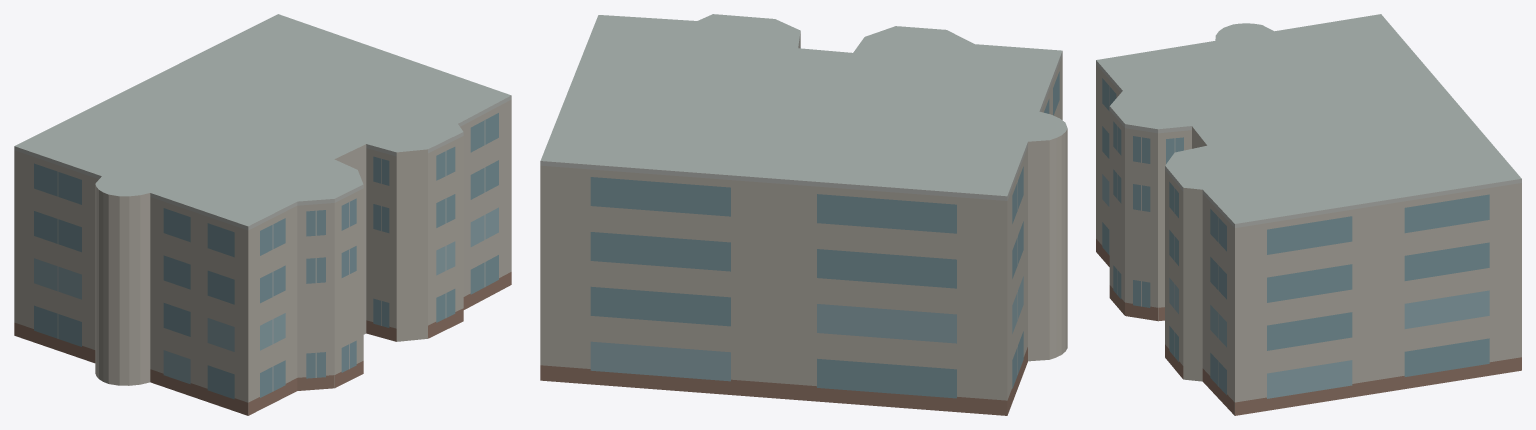
The model's file is survey-upis-32863959.glb.
3 views of the same model, side by side, from view 1: azimuth 30°, elevation 25°; view 2: azimuth 150°, elevation 25°; view 3: azimuth 270°, elevation 25° (orthographic). The views are drawn at different scales.
Visible parts, largest first — view 1: survey-upis-32863959.tmp; view 2: survey-upis-32863959.tmp; view 3: survey-upis-32863959.tmp.
Part boxes in pixels (bbox=[...]): survey-upis-32863959.tmp: bbox=[14, 14, 511, 415]; survey-upis-32863959.tmp: bbox=[540, 14, 1067, 415]; survey-upis-32863959.tmp: bbox=[1096, 14, 1521, 415].
Size of the model in its own units: 26.65 by 11.35 by 22.83.
